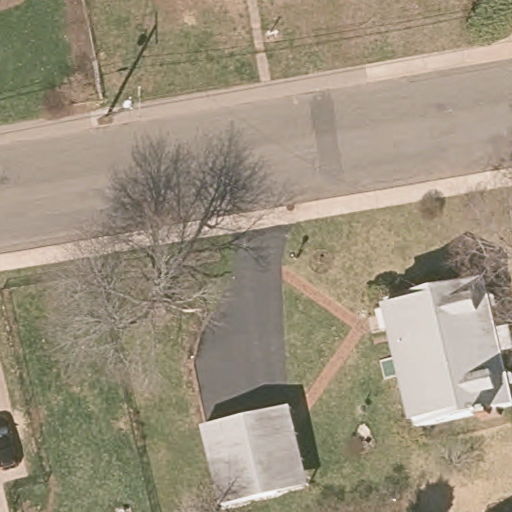DT: (102, 84, 145, 119)
